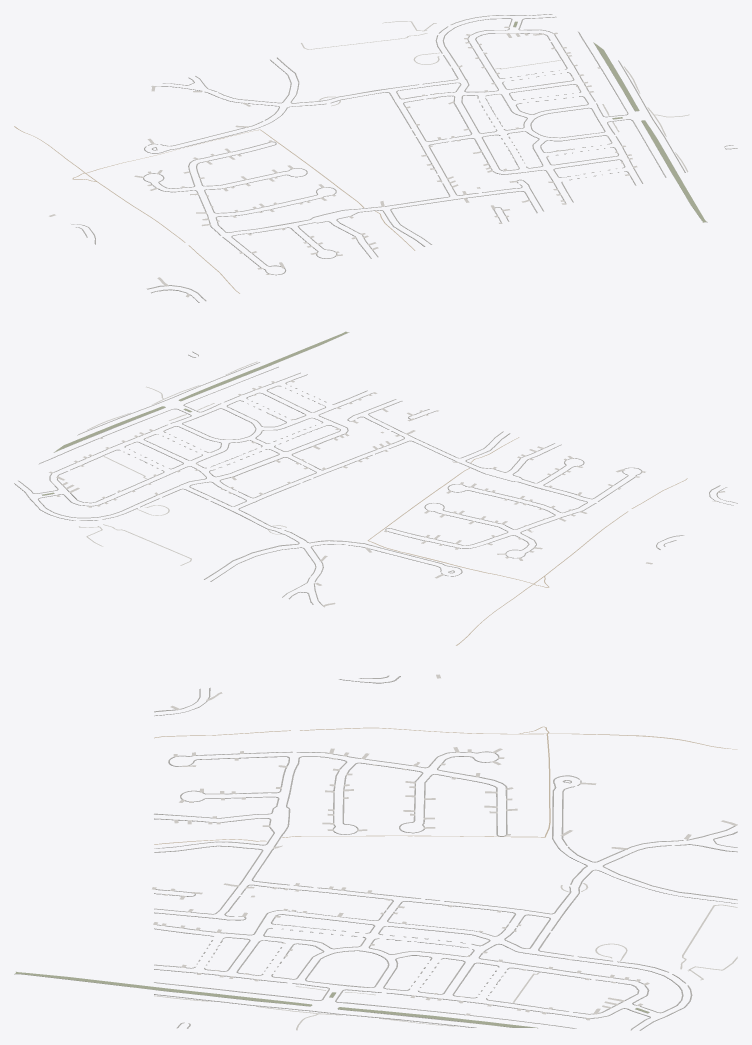
File: ground_r7_c0.glb
3 views of the same model, one above another, from view 1: azimuth 30°, elevation 25°; view 2: azimuth 150°, elevation 25°; view 3: azimuth 270°, elevation 25° (orthographic). The views are drawn at different scales.
Visible parts, largest first — view 1: sidewalks, driveways, paths, medians; view 2: sidewalks, driveways, paths, medians; view 3: sidewalks, driveways, paths, medians.
Part boxes in pixels (<box>): sidewalks: <box>71,14,737,302</box>; driveways: <box>49,26,637,297</box>; paths: <box>14,21,689,293</box>; medians: <box>513,21,707,222</box>; sidewalks: <box>14,351,737,606</box>; driveways: <box>49,380,724,606</box>; paths: <box>79,361,687,645</box>; medians: <box>42,331,349,495</box>; sidewalks: <box>154,675,737,1030</box>; driveways: <box>152,674,737,1020</box>; paths: <box>154,726,737,1030</box>; medians: <box>14,971,649,1028</box>.
Size of the model in its own units: 1138 by 39.32 by 976.
